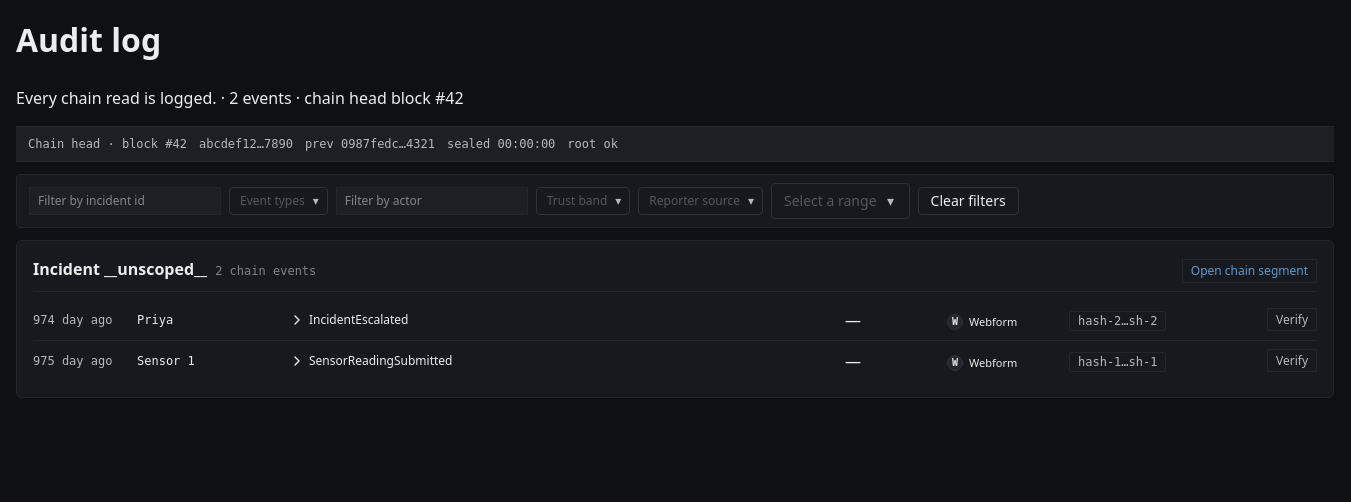
Test case: FE-B6 AuditLog per-row hash verification (audit-log.md #13, post-WO-008) › renders fail state when /api/chain/verify returns ok=false
The width and height of the screenshot is (1351, 502).
expect the list item with test id "audit-log-event-row" that starts with "974 day ago" is shown: met, box 33,300 -> 1317,341
Click the button with test id "audit-log-verify-btn-evt-1".
click(1292, 361)  # box 1267,349 -> 1317,372
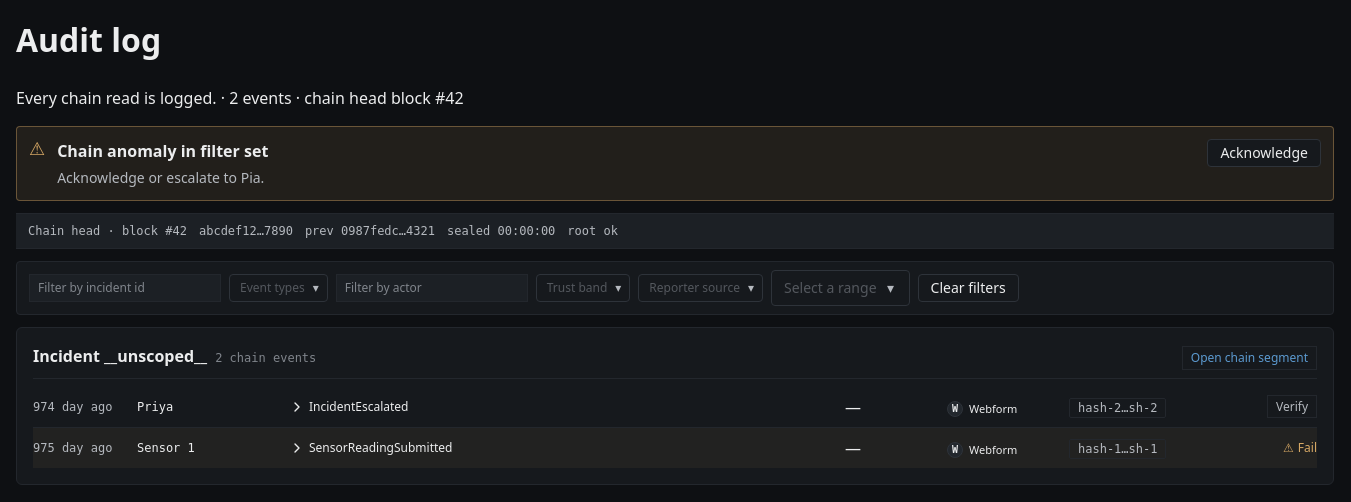
expect the element with test id "audit-log-verify-inline-evt-1" shows "Fail": met, box 1298,439 -> 1317,456
